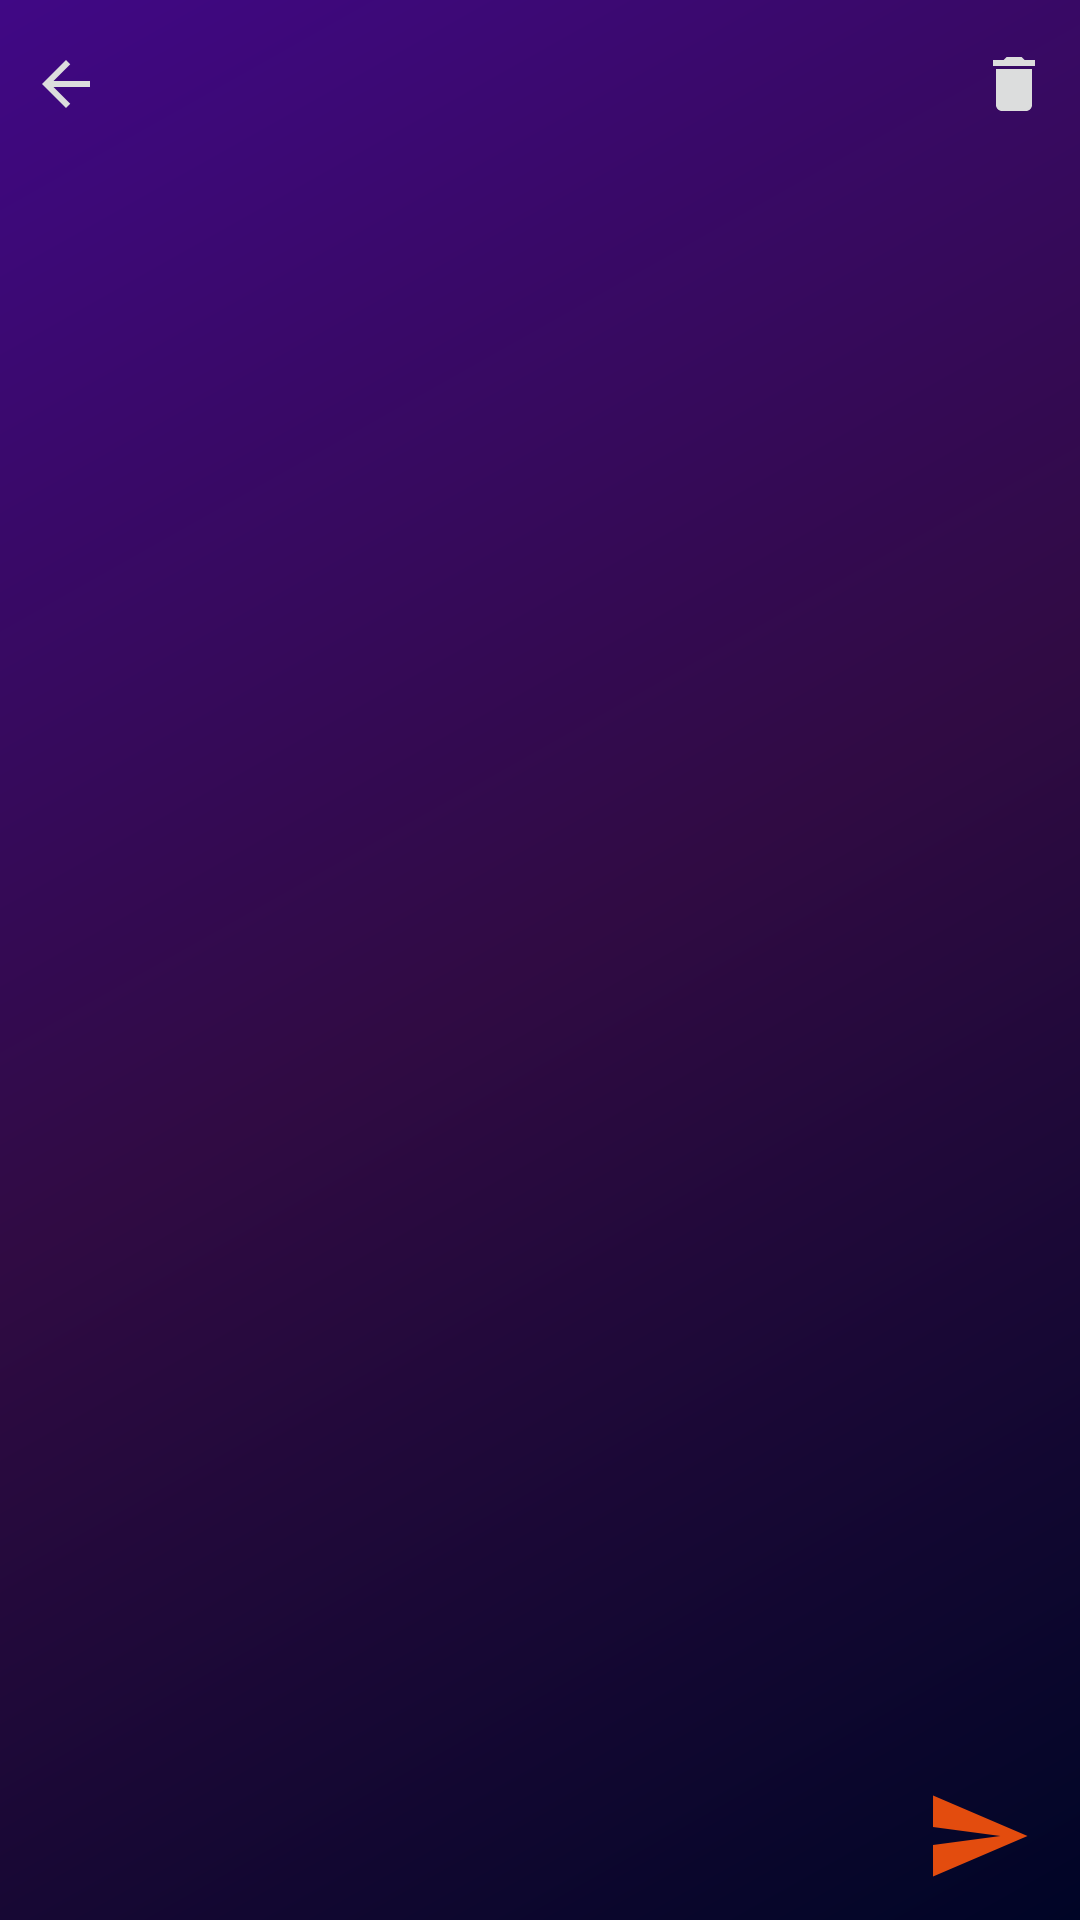

Named icons in this screenshot (1080x1920) and their centers, (x,y):
arrow back: (66,84)
delete: (1014,84)
send: (980,1836)
